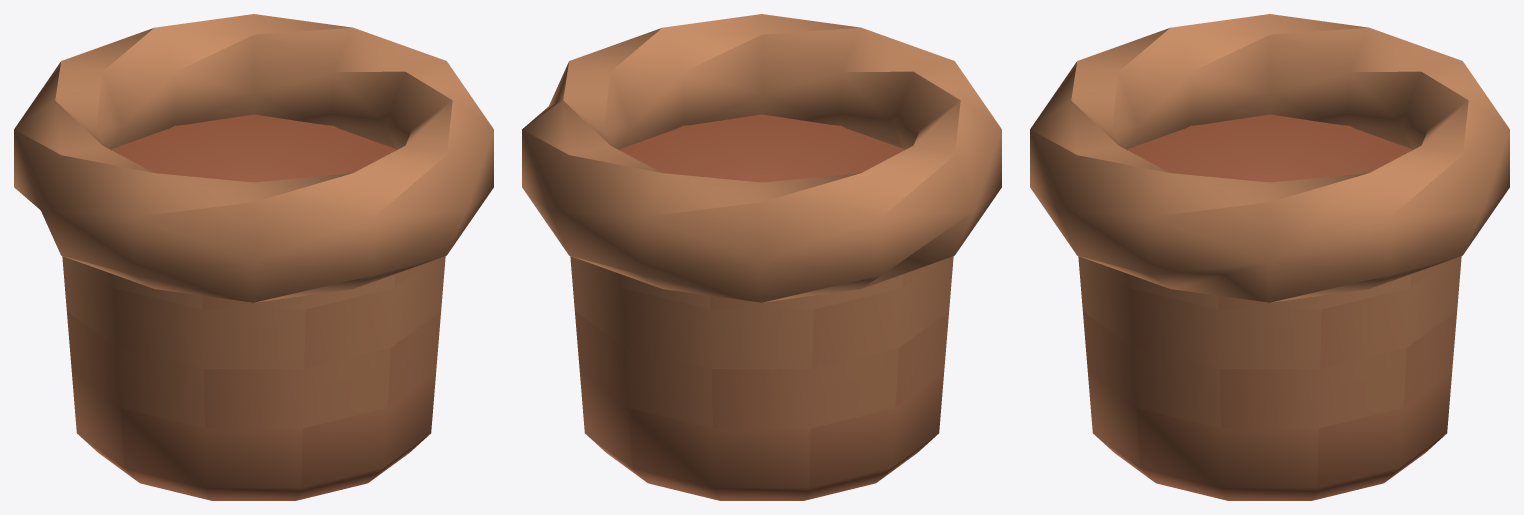
The model's file is Medium Pot-gOP3XQxXNO.glb.
3 views of the same model, side by side, from view 1: azimuth 30°, elevation 25°; view 2: azimuth 150°, elevation 25°; view 3: azimuth 270°, elevation 25° (orthographic).
Visible parts, largest first — view 1: pot_C_medium; view 2: pot_C_medium; view 3: pot_C_medium.
Part boxes in pixels (x1,y1,x2,y2): pot_C_medium: (14,14,493,500); pot_C_medium: (522,14,1001,500); pot_C_medium: (1030,14,1509,500).
Bounding box in the file's own units: 1 × 0.75 × 0.9745.
1 material, 1 textured.
